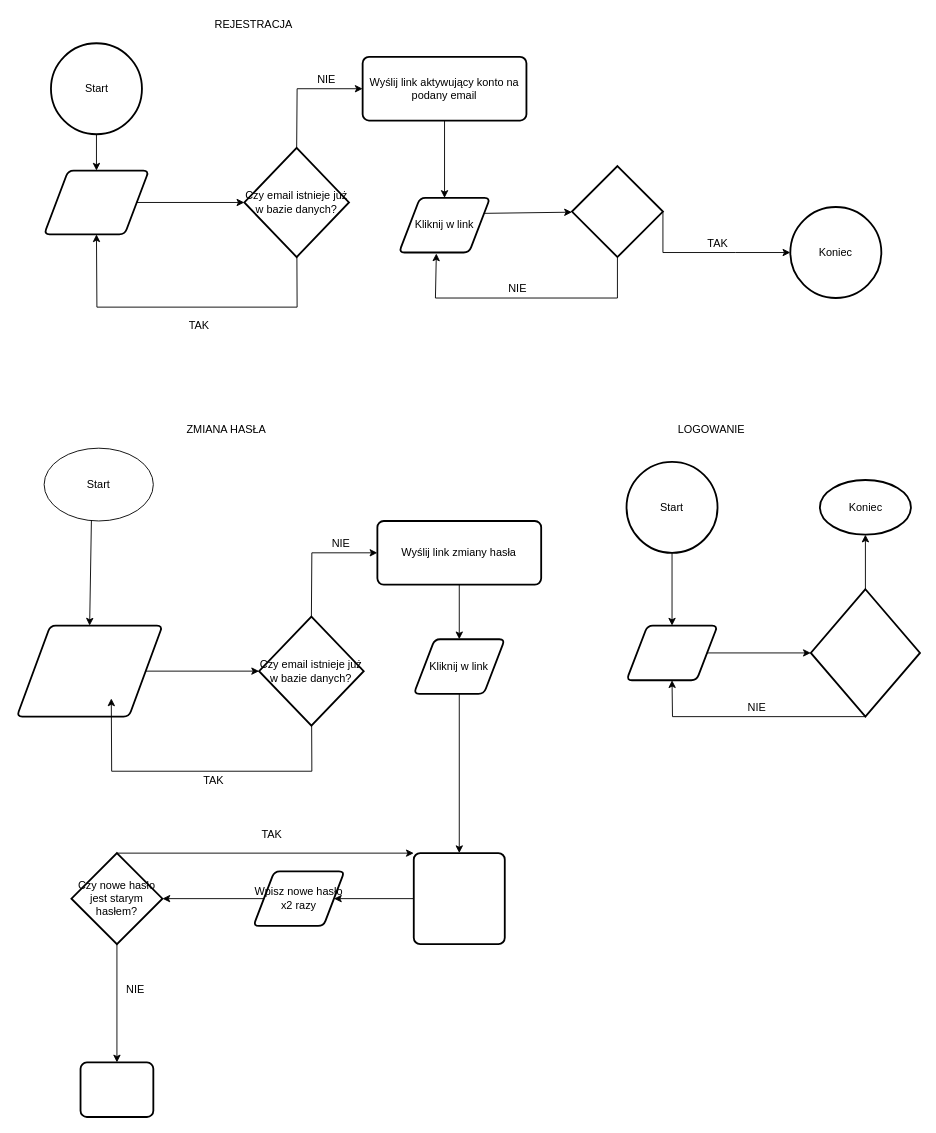
The diagram is 936 pixels wide and 1133 high, and some of its shapes have lost their labels. Here are the shapes that lost their labels. From the top down, the centre of each, then its label:
the point at 96,202: Podaj unikalne dane rejestracyjne
the point at 617,211: Czy link został klinknięty?
the point at 89,670: Podaj email na który ma zostać wysłany link do widoku zmiany hasła
the point at 671,652: Podaj dane logowania
the point at 864,652: Czy dane zgadzają się z danymi w bazie?
the point at 458,898: Przekieruj do widoku zmiany hasła
the point at 116,1089: Zapisz zmiany
